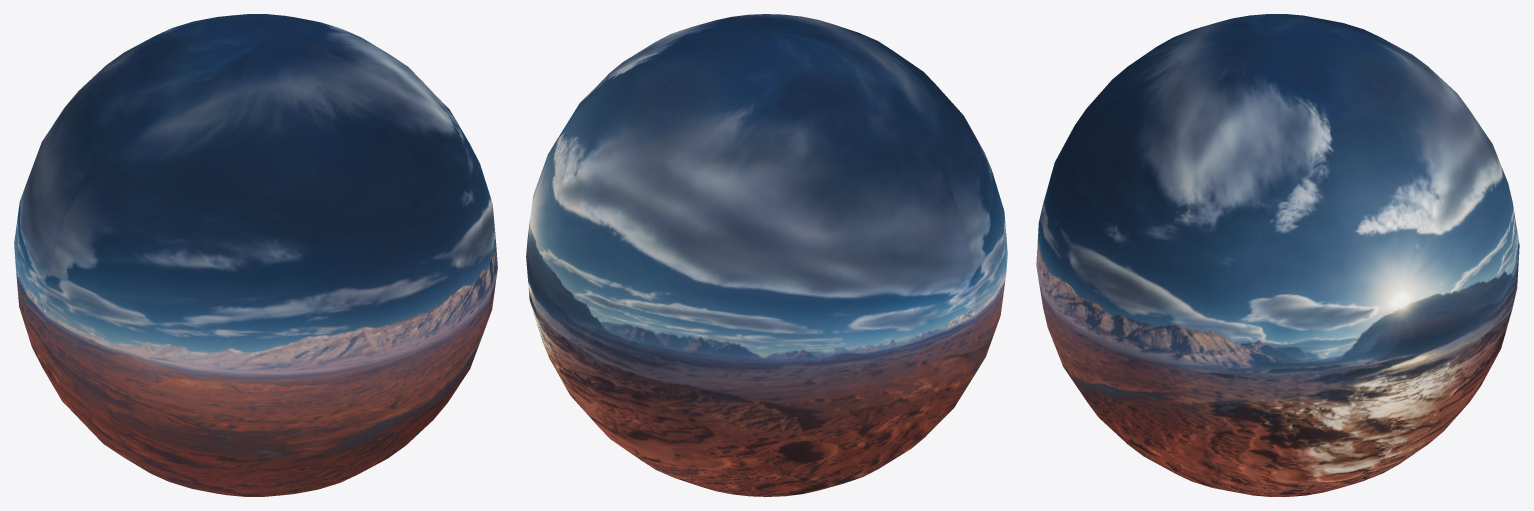
Rendered from landscape_of_an_alien_planet_skybox.glb.
3 views of the same model, side by side, from view 1: azimuth 30°, elevation 25°; view 2: azimuth 150°, elevation 25°; view 3: azimuth 270°, elevation 25° (orthographic).
Parts seen in each view (by area): view 1: Landscape of an Alien Planet by Jungle Jim_Landscape of an a; view 2: Landscape of an Alien Planet by Jungle Jim_Landscape of an a; view 3: Landscape of an Alien Planet by Jungle Jim_Landscape of an a.
Part boxes in pixels (bbox=[...]): Landscape of an Alien Planet by Jungle Jim_Landscape of an a: bbox=[14, 14, 497, 496]; Landscape of an Alien Planet by Jungle Jim_Landscape of an a: bbox=[526, 14, 1007, 496]; Landscape of an Alien Planet by Jungle Jim_Landscape of an a: bbox=[1036, 14, 1519, 496].
Bounding box in the file's own units: 760 × 759 × 759.
1 material, 1 textured.
